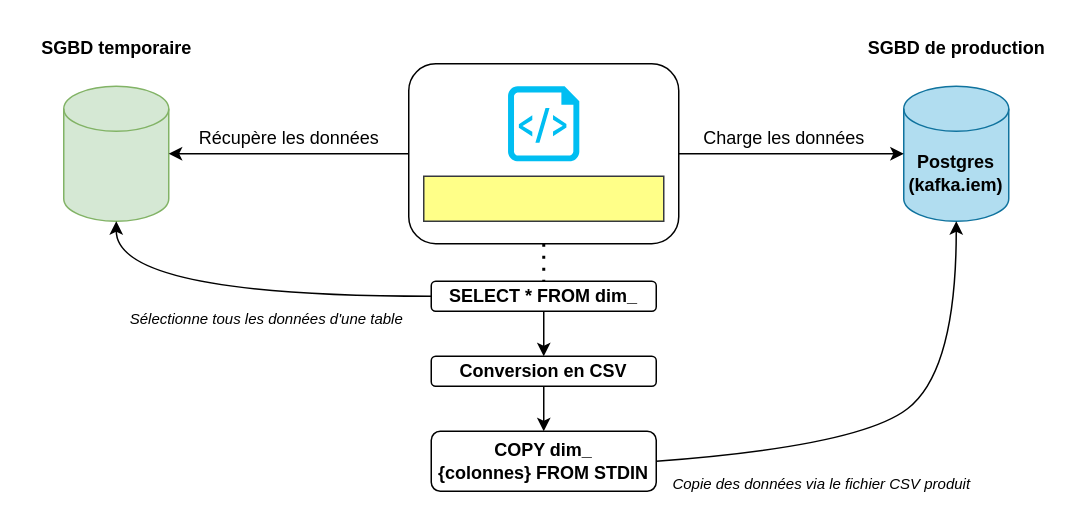
Image size: 1079x531. Some labels were removed from this diagram. Each missing label, with the centre of its shape:
"load_to_data_warehouse.py" goes at [543,198].
"SQlite" goes at [115,153].
